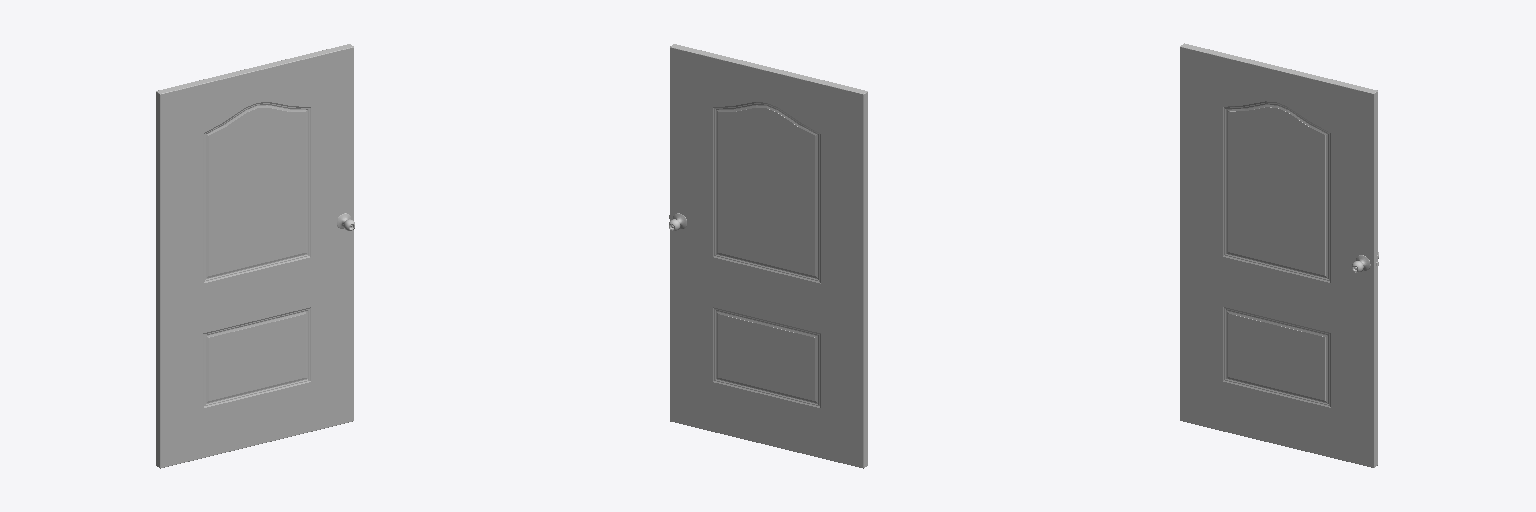
File: DoorOBJ.obj
The picture shows the model from 3 angles: view 1: azimuth 30°, elevation 25°; view 2: azimuth 150°, elevation 25°; view 3: azimuth 330°, elevation 25°; orthographic projection.
Parts seen in each view (by area): view 1: Door_Door_Cube; view 2: Door_Door_Cube; view 3: Door_Door_Cube.
Boxes of the visible parts, x1=… form: Door_Door_Cube: x1=156, y1=44, x2=353, y2=468; Door_Door_Cube: x1=670, y1=44, x2=867, y2=468; Door_Door_Cube: x1=1180, y1=43, x2=1377, y2=467.
Size of the model in its own units: 7.09 by 12.94 by 1.3.